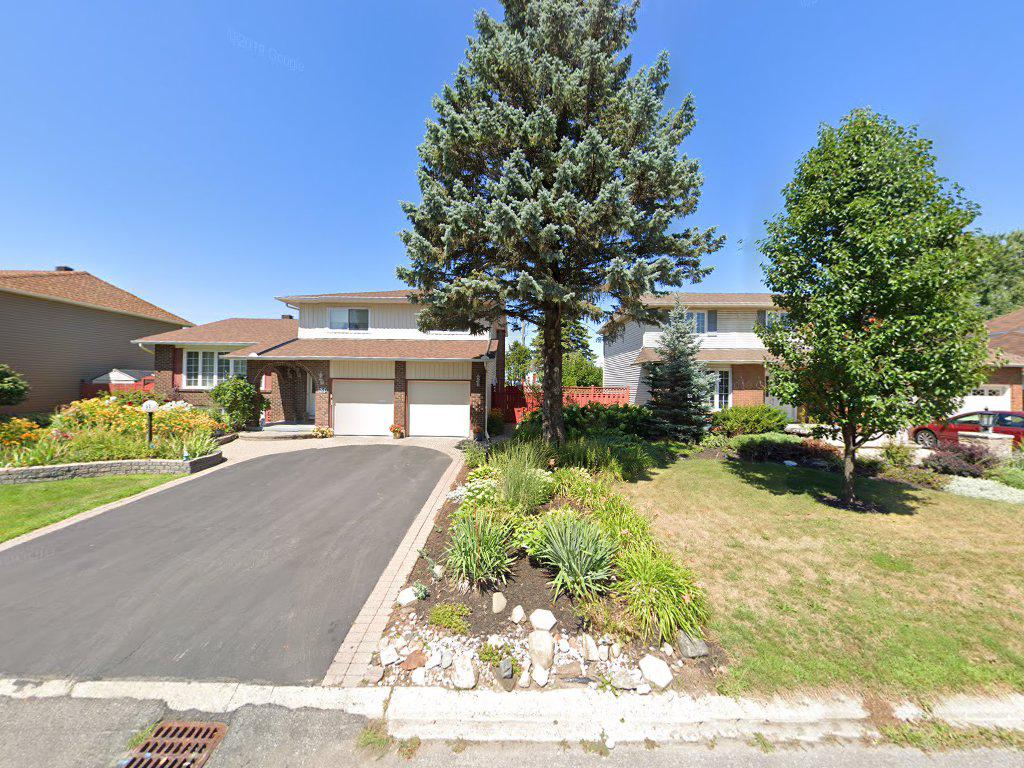trunk: (538, 286, 571, 470), (841, 395, 860, 517)
